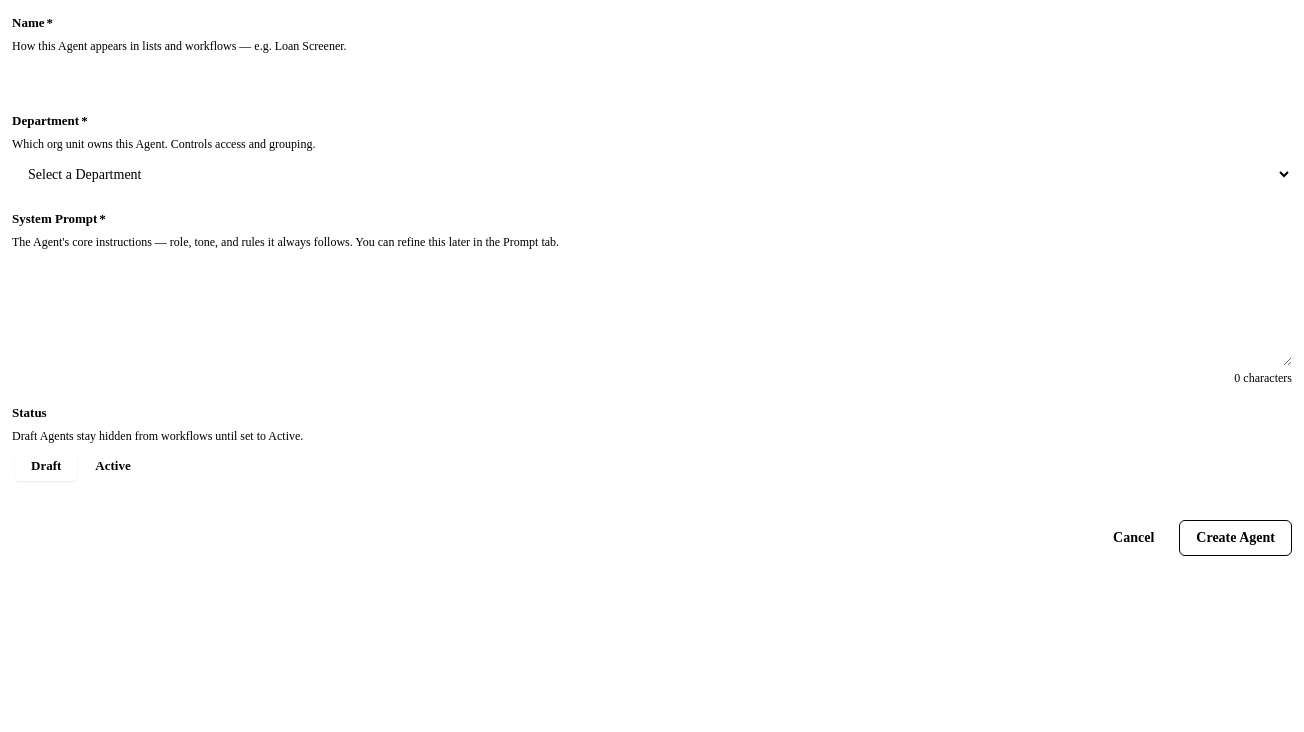
Test case: IdentityTab › Save is blocked and shows all inline errors when required fields are empty
Click the button with test id "vaic-tab-save": point(1236, 538) [1179,520,1292,556]
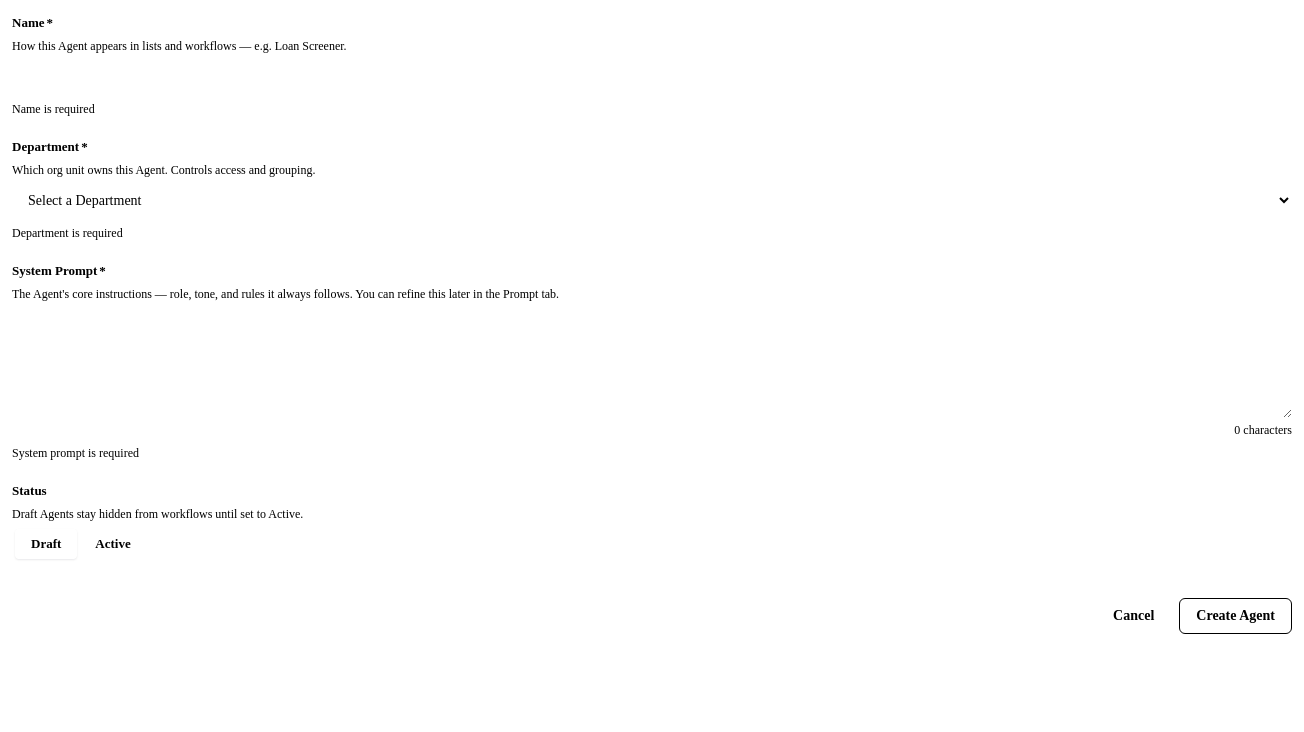
Expected: the text "Name is required" is shown, [12,102,95,116]
Expected: the text "Department is required" is shown, [12,226,123,240]
Expected: the text "System prompt is required" is shown, [12,446,139,460]
